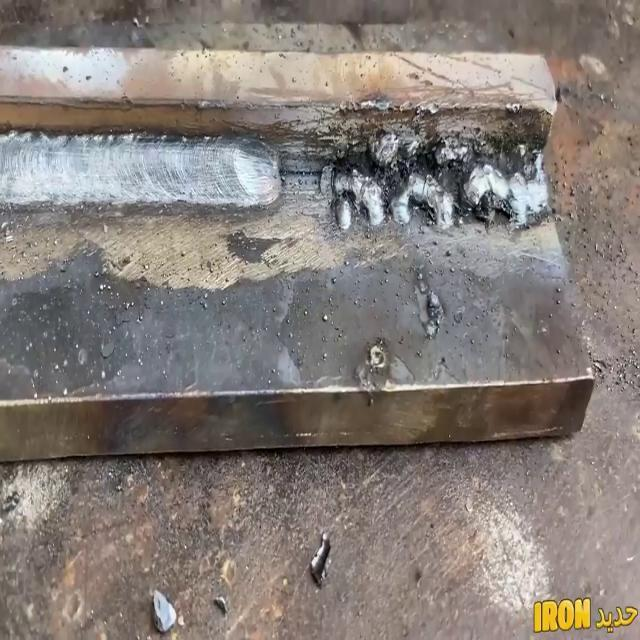Bad Weld: (322, 118, 548, 234)
Good Weld: (0, 122, 280, 217)
